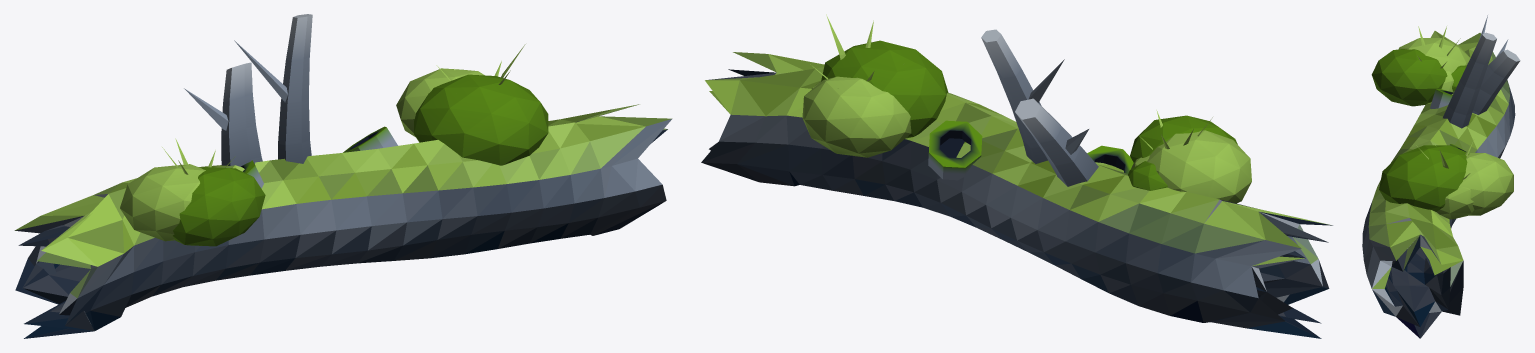
The model's file is pohon_tumbang_hollow_driftwood_295403.glb.
3 views of the same model, side by side, from view 1: azimuth 30°, elevation 25°; view 2: azimuth 150°, elevation 25°; view 3: azimuth 270°, elevation 25° (orthographic). The views are drawn at different scales.
Parts seen in each view (by area): view 1: Batang_Pohon_Berlubang; view 2: Batang_Pohon_Berlubang; view 3: Batang_Pohon_Berlubang.
Part boxes in pixels (left/top/right/bottom): Batang_Pohon_Berlubang: left=14, top=14, right=672, bottom=338; Batang_Pohon_Berlubang: left=701, top=14, right=1332, bottom=338; Batang_Pohon_Berlubang: left=1362, top=15, right=1520, bottom=338.
Size of the model in its own units: 5.56 by 2.06 by 1.58.
